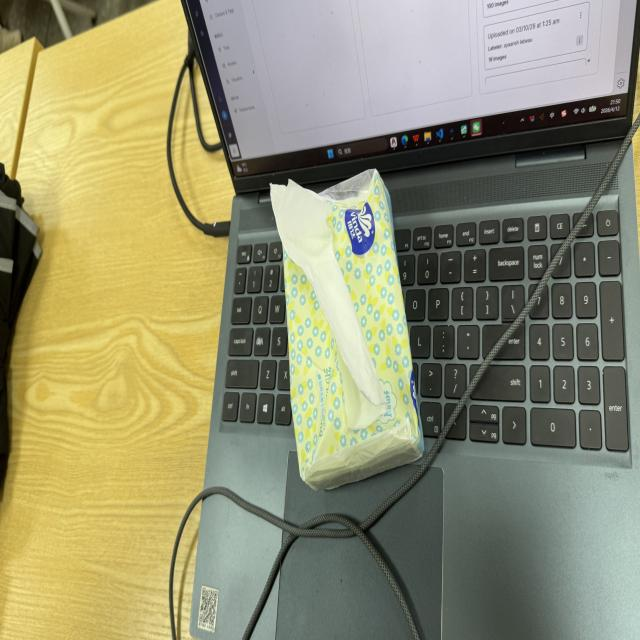tissue: (272, 171, 423, 488)
